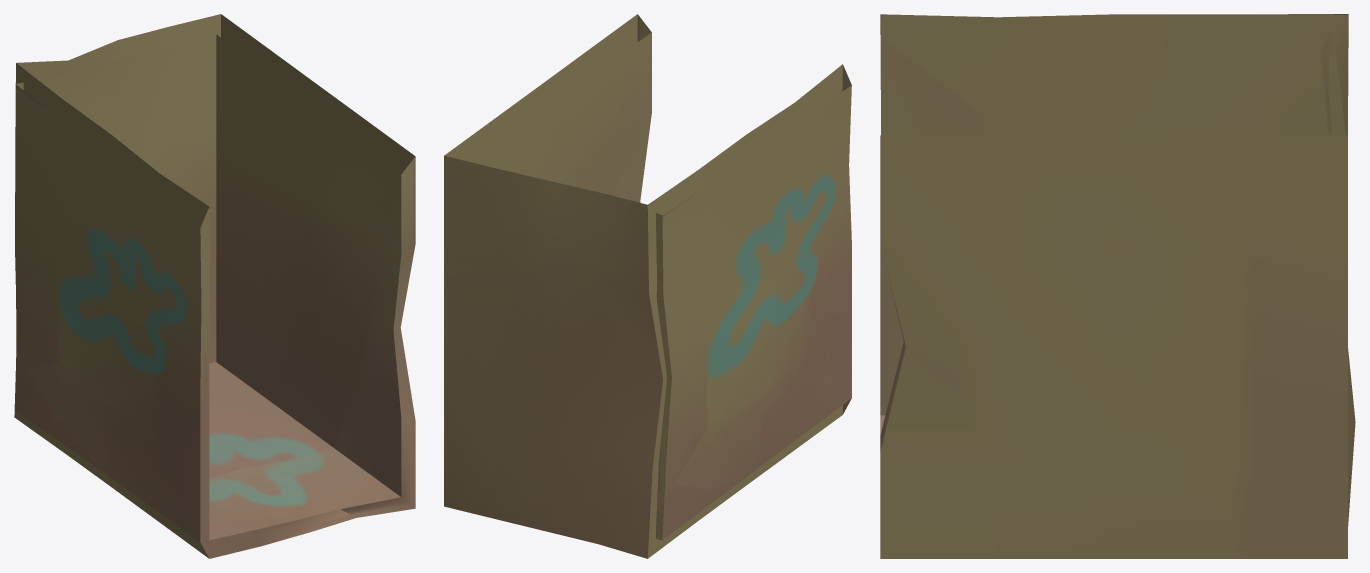
File: box-right2-right.fbx
3 renders of one model, left to right at view 1: azimuth 30°, elevation 25°; view 2: azimuth 150°, elevation 25°; view 3: azimuth 270°, elevation 25°, orthographic. The views are drawn at different scales.
Parts seen in each view (by area): view 1: box-right2-right; view 2: box-right2-right; view 3: box-right2-right.
Boxes of the visible parts, bbox=[...] form: box-right2-right: bbox=[14, 14, 415, 558]; box-right2-right: bbox=[444, 14, 851, 558]; box-right2-right: bbox=[880, 14, 1355, 558].
Size of the model in its own units: 111 by 167 by 169.
